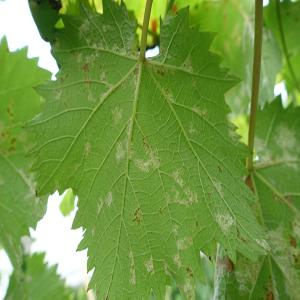Folha: (22, 0, 271, 298), (207, 92, 300, 299), (0, 30, 65, 284), (0, 245, 73, 300)
Fungo: (108, 117, 148, 181), (162, 167, 201, 216), (231, 246, 262, 300), (132, 118, 160, 173), (160, 218, 194, 254), (51, 70, 75, 121), (103, 36, 139, 66), (264, 222, 290, 263), (76, 56, 97, 105), (122, 240, 142, 290), (278, 256, 300, 300), (122, 61, 146, 99), (72, 10, 95, 47), (177, 49, 197, 86), (134, 148, 160, 173), (0, 125, 18, 156), (214, 209, 234, 236), (90, 186, 106, 218), (5, 96, 16, 125), (87, 221, 100, 243), (109, 105, 123, 125), (221, 254, 233, 273), (255, 237, 271, 251), (143, 255, 154, 275), (132, 206, 142, 226), (83, 140, 91, 160), (105, 190, 113, 208), (173, 253, 181, 269), (185, 264, 193, 278), (288, 234, 296, 248), (156, 68, 164, 76), (133, 207, 139, 217), (217, 164, 222, 174), (158, 206, 162, 214)
